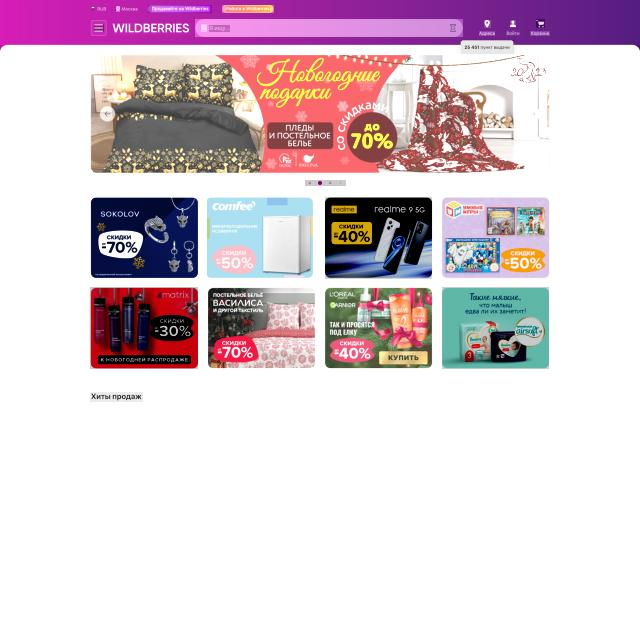CheckBox: (148, 5, 212, 13), (222, 5, 274, 13)
CheckedTextView: (195, 19, 463, 37)
RadioButton: (461, 40, 514, 54)
bag: (0, 0, 640, 45)
breadcrumbs: (90, 392, 143, 402)
card: (91, 54, 549, 173)
carousel: (536, 19, 545, 28), (94, 24, 104, 32), (484, 20, 491, 28), (201, 24, 207, 32), (450, 24, 456, 32), (510, 20, 516, 27), (116, 6, 120, 12)
copy: (90, 287, 198, 369), (325, 197, 432, 279), (442, 197, 549, 279), (442, 287, 549, 369), (208, 197, 316, 278), (207, 288, 315, 369), (324, 288, 432, 369), (91, 198, 198, 278)
data feed: (152, 6, 210, 12), (226, 6, 270, 12), (530, 31, 550, 36), (506, 30, 520, 36), (479, 31, 495, 36)
date picker: (113, 23, 191, 35)
decoration: (91, 20, 107, 36)
dropdown: (305, 180, 346, 186)
footer: (209, 25, 230, 32)
